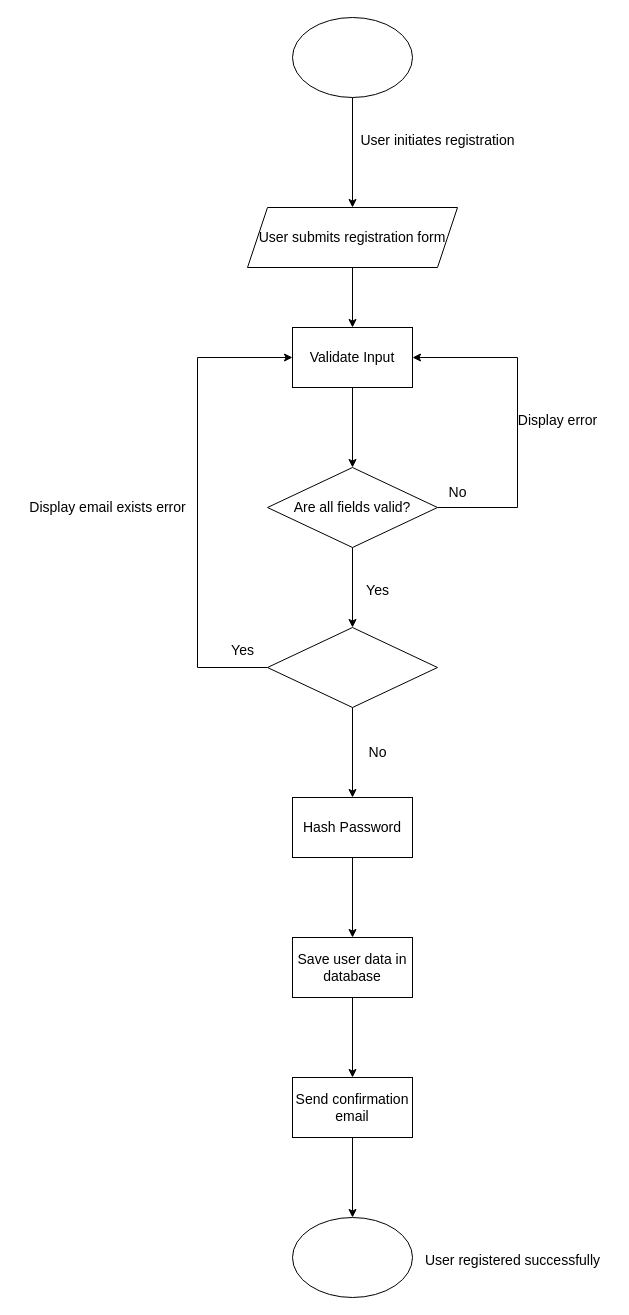
Image size: 629x1315. Some labels were removed from this diagram. The centre of each missing label's shape, as x and y in pixels:
"Does email exist?" goes at point (352, 667).
"End" goes at point (352, 1257).
"Start" goes at point (352, 57).
